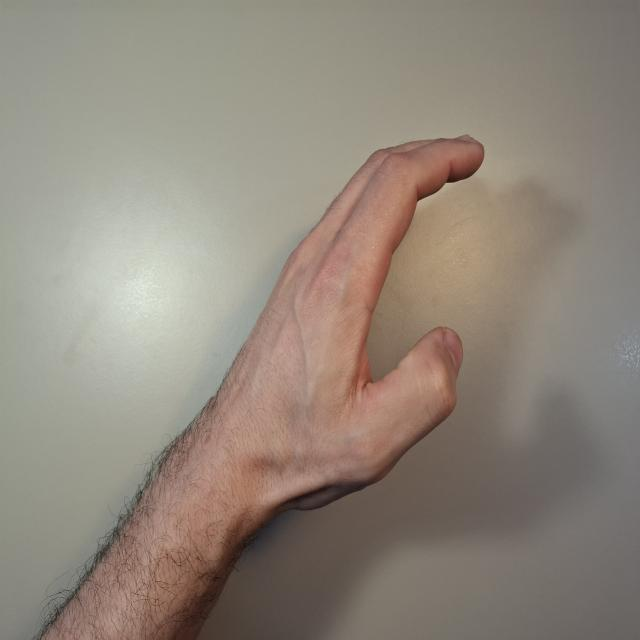glove_off: (213, 130, 487, 516)
